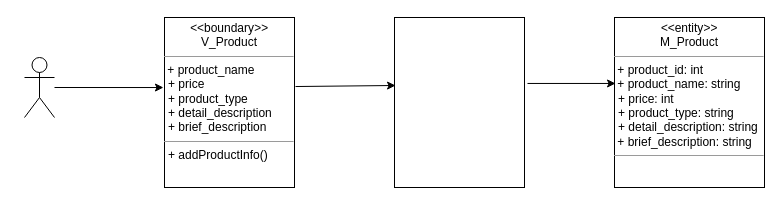
The diagram is 782 pixels wide and 205 high, and some of its shapes have lost their labels. The shapes that lost their labels are listed below. From the top down, each one's box as (x1, y1, x2, y2) in pixels, then its label:
(24, 56, 54, 118): Provider
(394, 16, 524, 188): < <control >> C_Product + addProductInfo()
